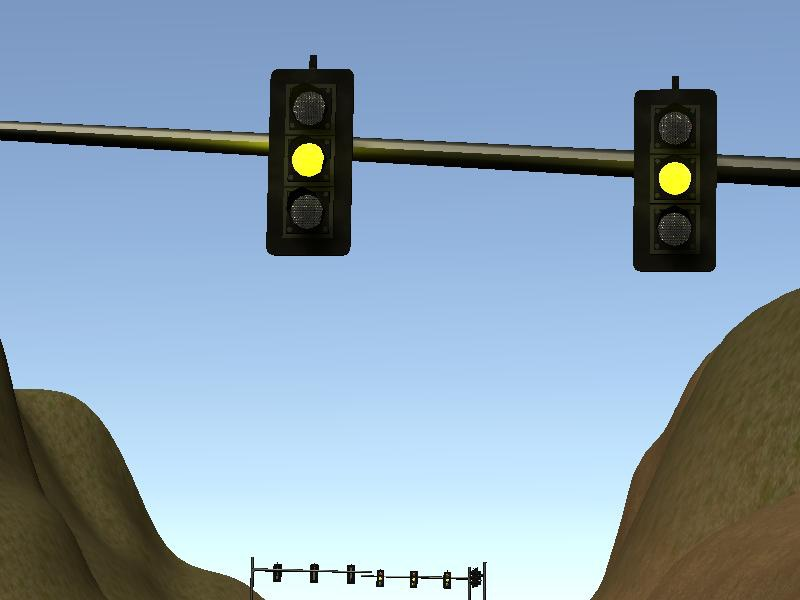Yellow: (266, 67, 353, 254), (632, 88, 717, 272)
